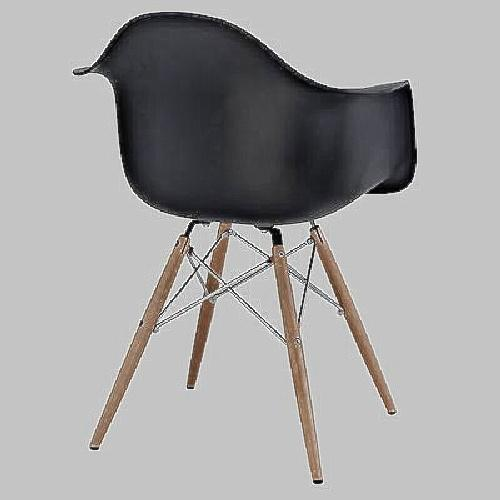chair: (84, 19, 416, 470)
